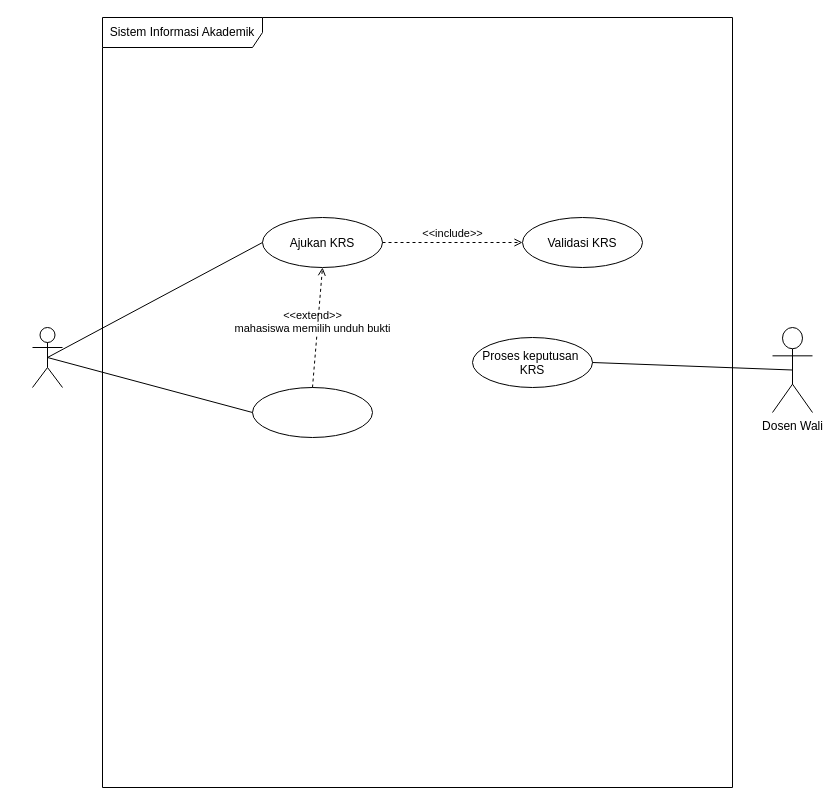
This 840x805 diagram has some shape labels left out. Each missing label, with the centre of its shape:
"Mahasiswa" belongs at (47,357).
"Unduh bukti pengajuan KRS" belongs at (312,412).
